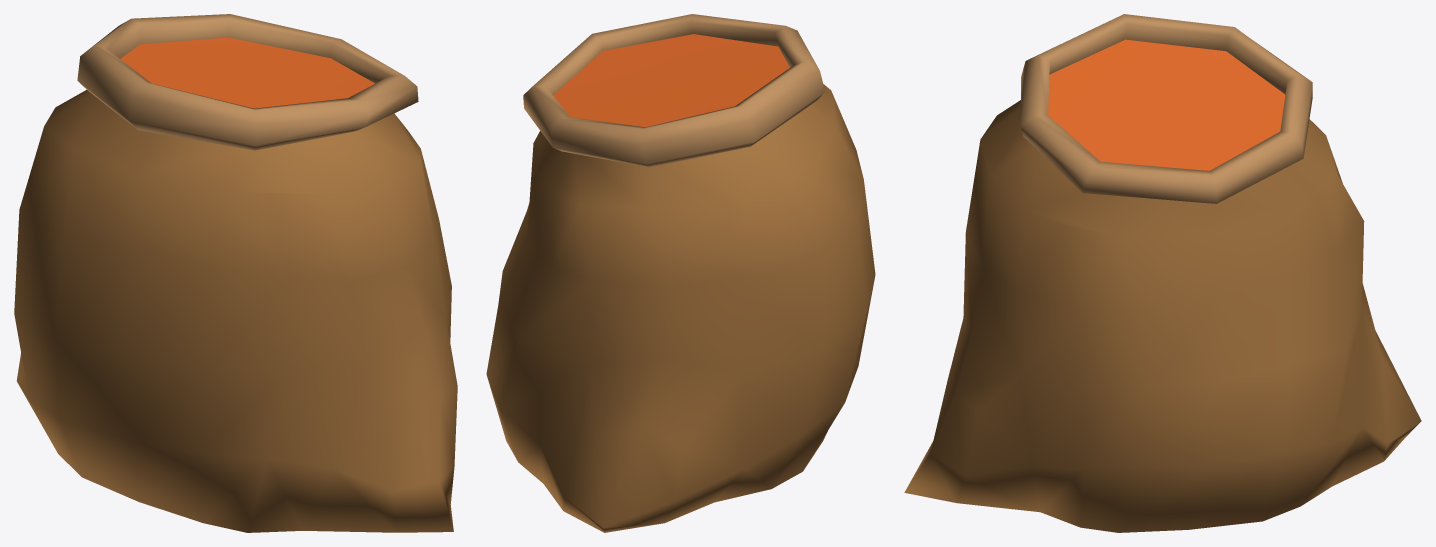
File: sackCarrot.fbx
3 renders of one model, left to right at view 1: azimuth 30°, elevation 25°; view 2: azimuth 150°, elevation 25°; view 3: azimuth 270°, elevation 25°, orthographic. The views are drawn at different scales.
Visible parts, largest first — view 1: sack_Carrot; view 2: sack_Carrot; view 3: sack_Carrot.
Boxes of the visible parts, x1,y1,x2,y2 form: sack_Carrot: (14,14,457,532); sack_Carrot: (486,14,875,532); sack_Carrot: (904,14,1421,532).
Size of the model in its own units: 1.12 by 1.2 by 1.43.
